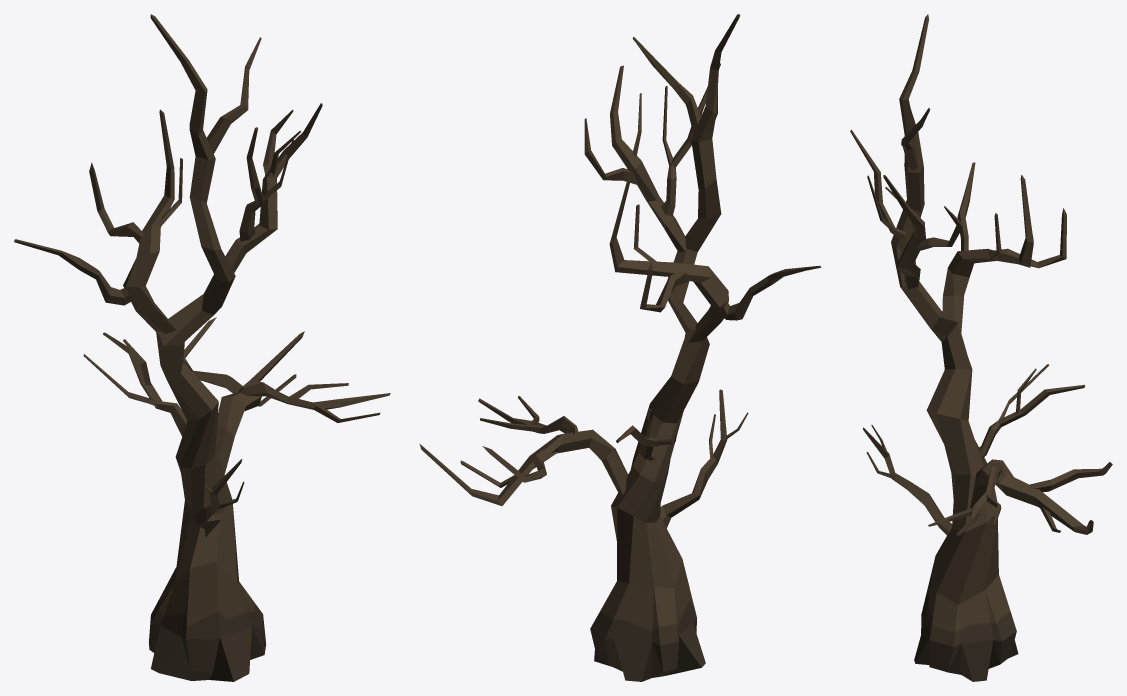
The model's file is crypt_tree_b.gltf.
3 views of the same model, side by side, from view 1: azimuth 30°, elevation 25°; view 2: azimuth 150°, elevation 25°; view 3: azimuth 270°, elevation 25° (orthographic). The views are drawn at different scales.
Visible parts, largest first — view 1: crypt_tree_b; view 2: crypt_tree_b; view 3: crypt_tree_b.
Part boxes in pixels (<box>): crypt_tree_b: <box>14,14,390,681</box>; crypt_tree_b: <box>419,14,821,681</box>; crypt_tree_b: <box>850,14,1112,681</box>.
Size of the model in its own units: 4.39 by 7.87 by 3.02.
1 material, 1 textured.
